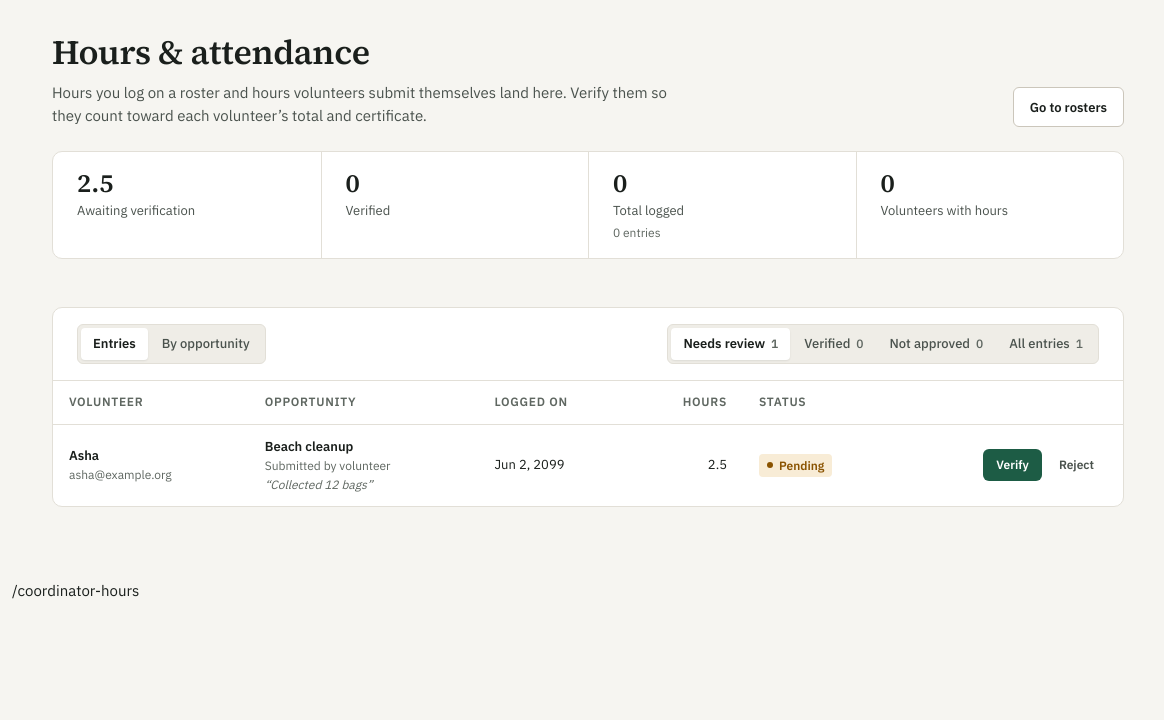
Test: Hours review › asks for confirmation before rejecting, then notifies
Click the button "Reject": click(1076, 466) [1046, 450, 1107, 482]
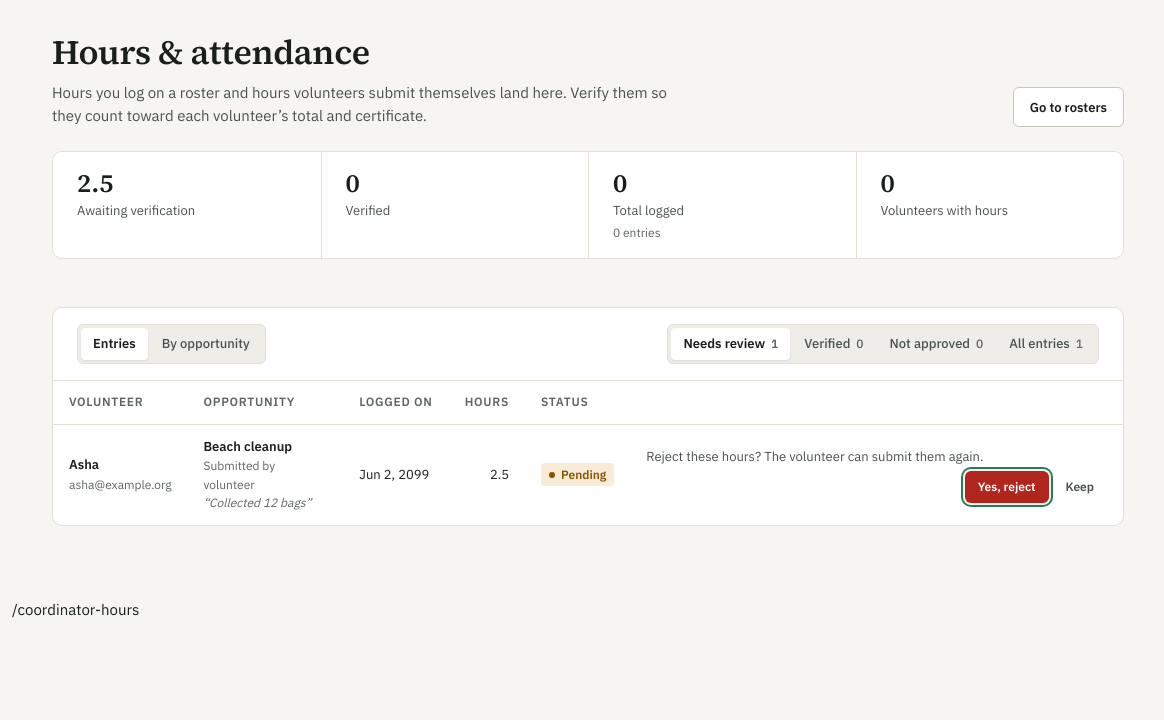
Click the button "Yes, reject": click(1007, 487) [965, 471, 1048, 503]
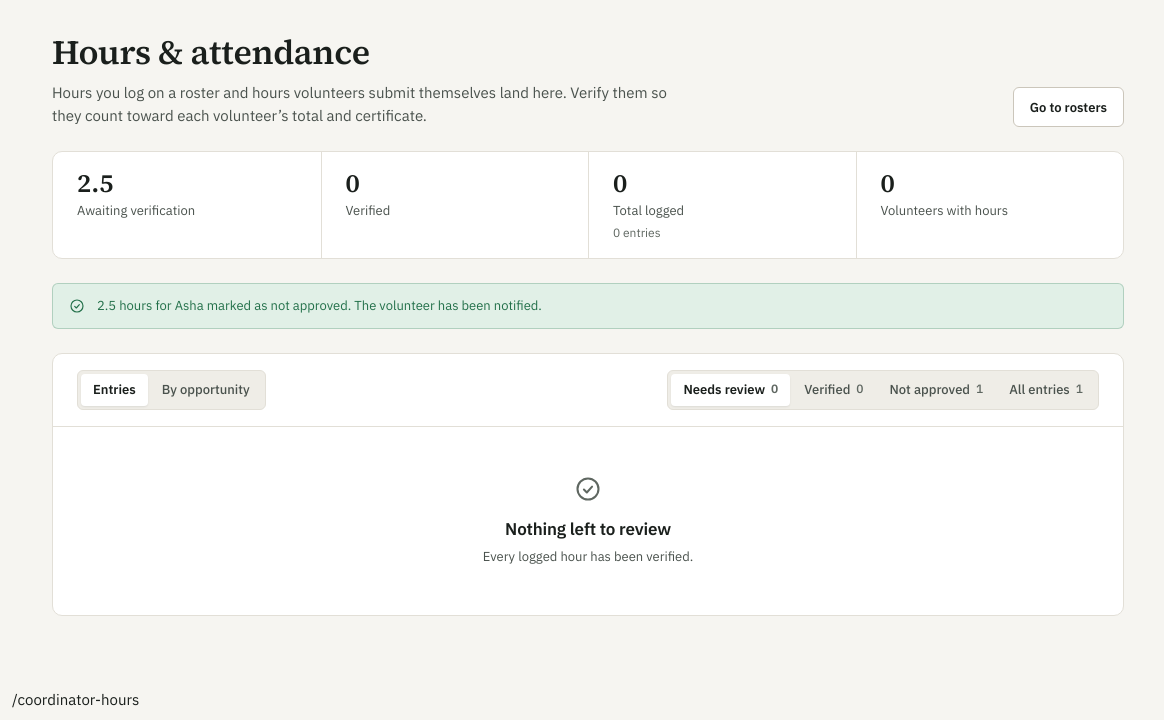
Expected: the text "marked as not approved. The volunteer has been notified." is shown, [97, 297, 542, 314]
